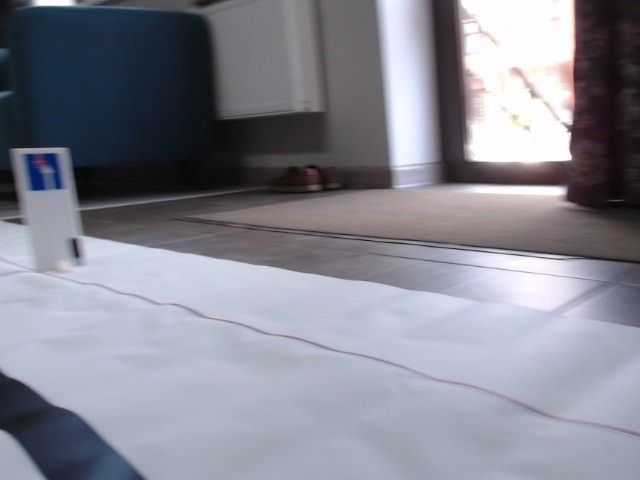priority_movement: (21, 151, 63, 192)
